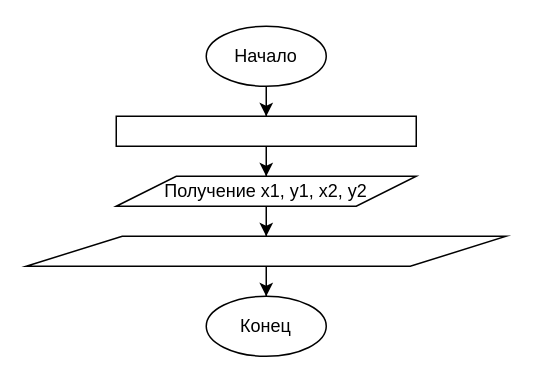
This 533x383 diagram has some shape labels left out. The shapes that lost their labels are listed below. From the top down, each one's box as (x1, y1, x2, y2) in pixels, then its label:
(115, 115, 416, 146): Вещественное число x1, y1, x2, y2
(25, 235, 506, 266): Возвращение sqrt(pow(x2-x1,2)+pow(y2 -y1,2))
